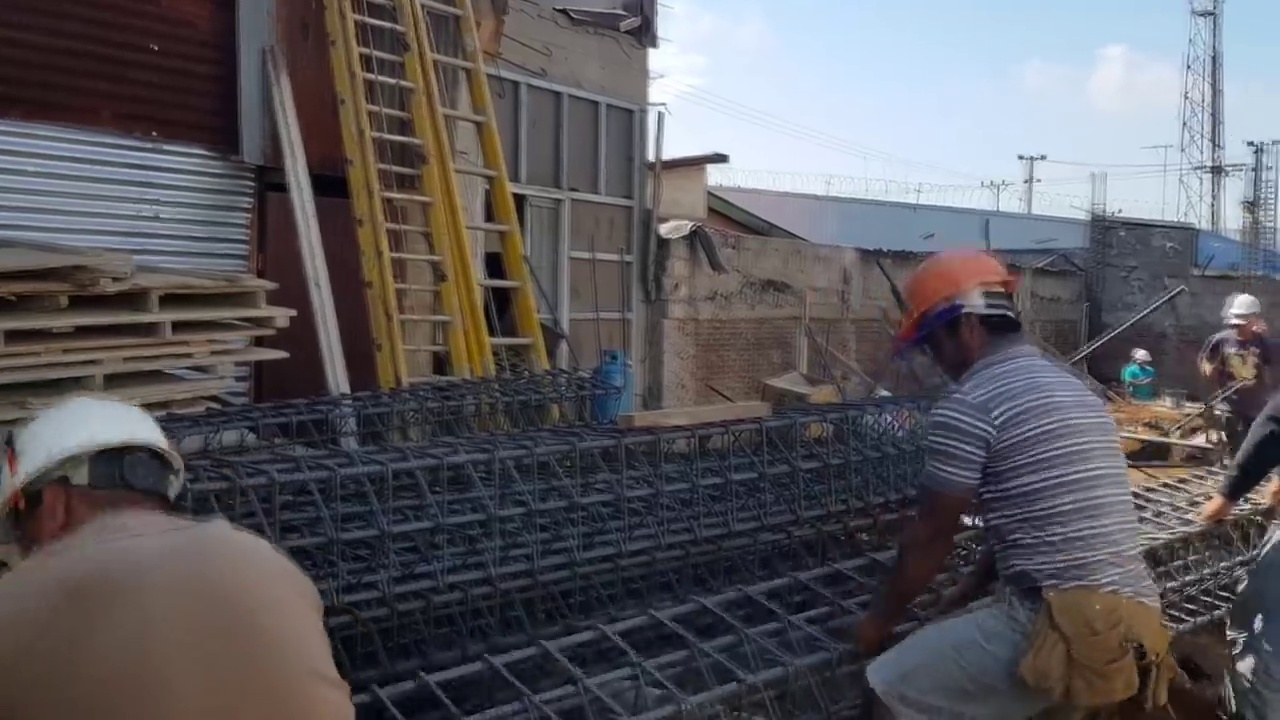helmet: (0, 396, 196, 513), (900, 249, 1016, 351), (1226, 297, 1270, 327), (1133, 349, 1152, 363)
helmet-on: (1, 399, 196, 547), (900, 240, 1022, 387), (1221, 296, 1269, 340), (1132, 349, 1152, 370)
person: (849, 230, 1156, 718), (0, 389, 352, 717), (1194, 295, 1270, 447), (1120, 349, 1157, 402)
